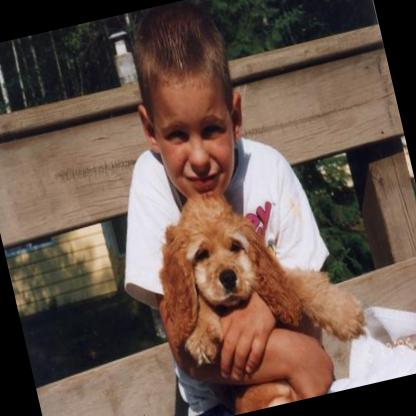cocker_spaniel: (141, 163, 379, 416)
